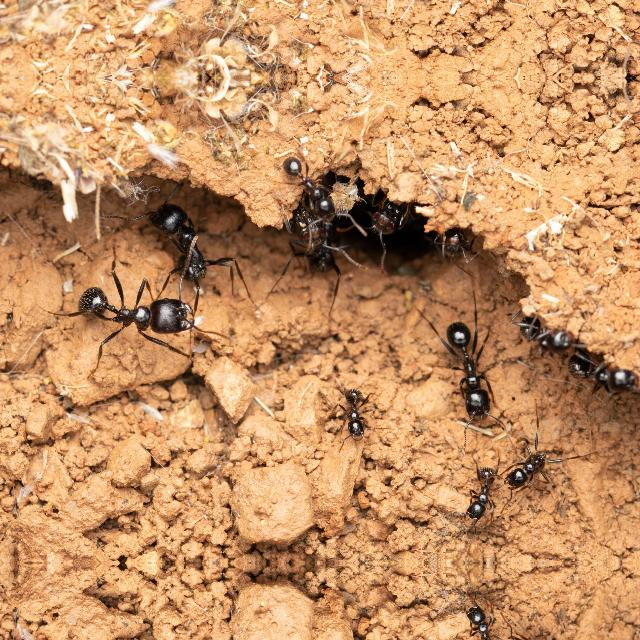Messor: (435, 310, 501, 442), (144, 193, 228, 294), (76, 277, 194, 339), (277, 148, 357, 226), (362, 182, 443, 250), (284, 210, 348, 296), (554, 333, 638, 393), (442, 456, 503, 532), (424, 209, 498, 269), (519, 298, 577, 358), (498, 444, 562, 494), (442, 592, 503, 640), (332, 382, 376, 441), (498, 629, 561, 640)
